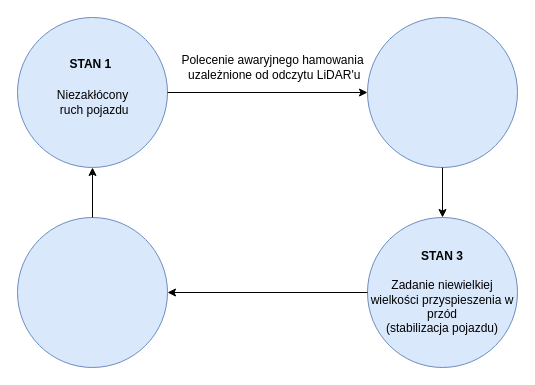
This 535x385 diagram has some shape labels left out. The box of each missing label's shape, as (x1, y1, x2, y2) in pixels:
STAN 2 Gwałtowne zahamowanie pojazdu (zadanie przyspieszenia wstecz): (366, 16, 518, 168)
STAN 4 Stopniowe zmniejszanie wartości przyspieszenia do 0 (Gładkie zatrzymanie): (16, 216, 168, 368)
